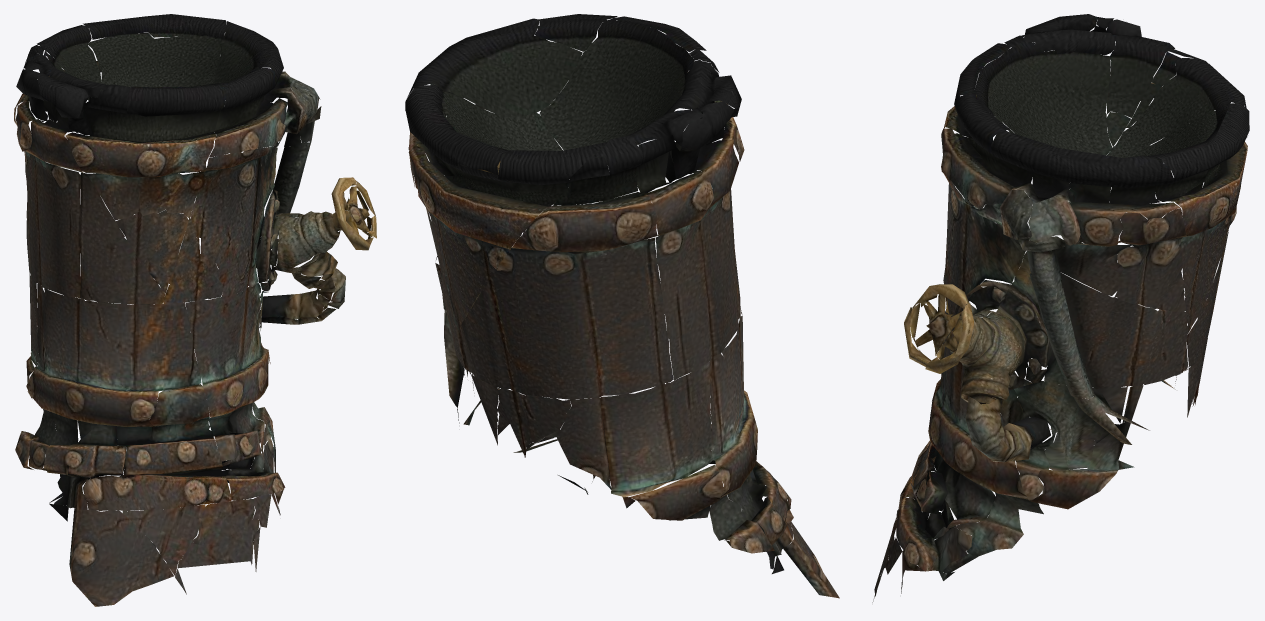
Rendered from a_sluice_gauntlet.glb.
The picture shows the model from 3 angles, left to right: view 1: azimuth 30°, elevation 25°; view 2: azimuth 150°, elevation 25°; view 3: azimuth 270°, elevation 25°; orthographic projection. The views are drawn at different scales.
Visible parts, largest first — view 1: tripo_node_b14e2996-0eb6-48ed-994d-9695298e9ffa; view 2: tripo_node_b14e2996-0eb6-48ed-994d-9695298e9ffa; view 3: tripo_node_b14e2996-0eb6-48ed-994d-9695298e9ffa.
Boxes of the visible parts, box(x1,y1,x2,y2) form: tripo_node_b14e2996-0eb6-48ed-994d-9695298e9ffa: box(14, 14, 376, 606); tripo_node_b14e2996-0eb6-48ed-994d-9695298e9ffa: box(405, 14, 839, 598); tripo_node_b14e2996-0eb6-48ed-994d-9695298e9ffa: box(872, 14, 1249, 602).
Size of the model in its own units: 0.1765 by 0.254 by 0.1624.
1 material, 1 textured.
